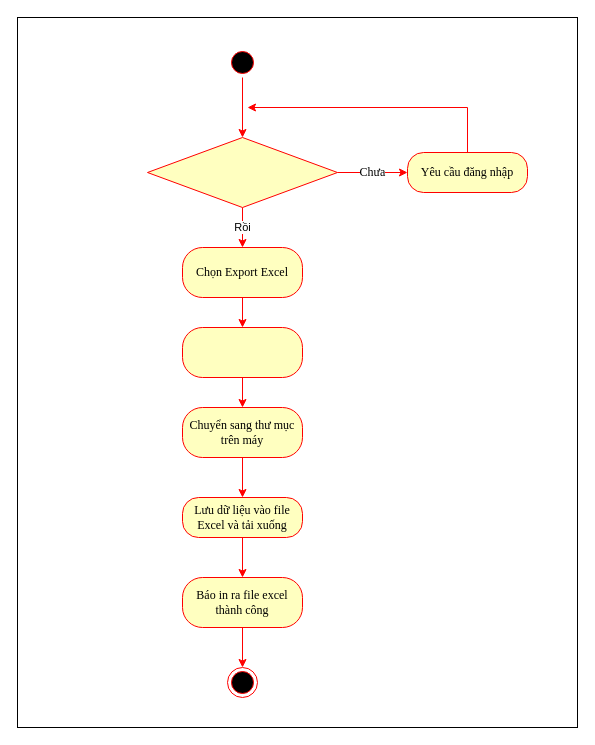
Some shapes in this 595 by 745 pixel diagram are drawn without their labels. Here are the shapes that lost their labels. From the top down, the centre of each, then its label:
(x=242, y=172): Actors đã đăng nhập chưa
(x=242, y=352): Truy vấn dữ liệu trong cơ sở dữ liệu
